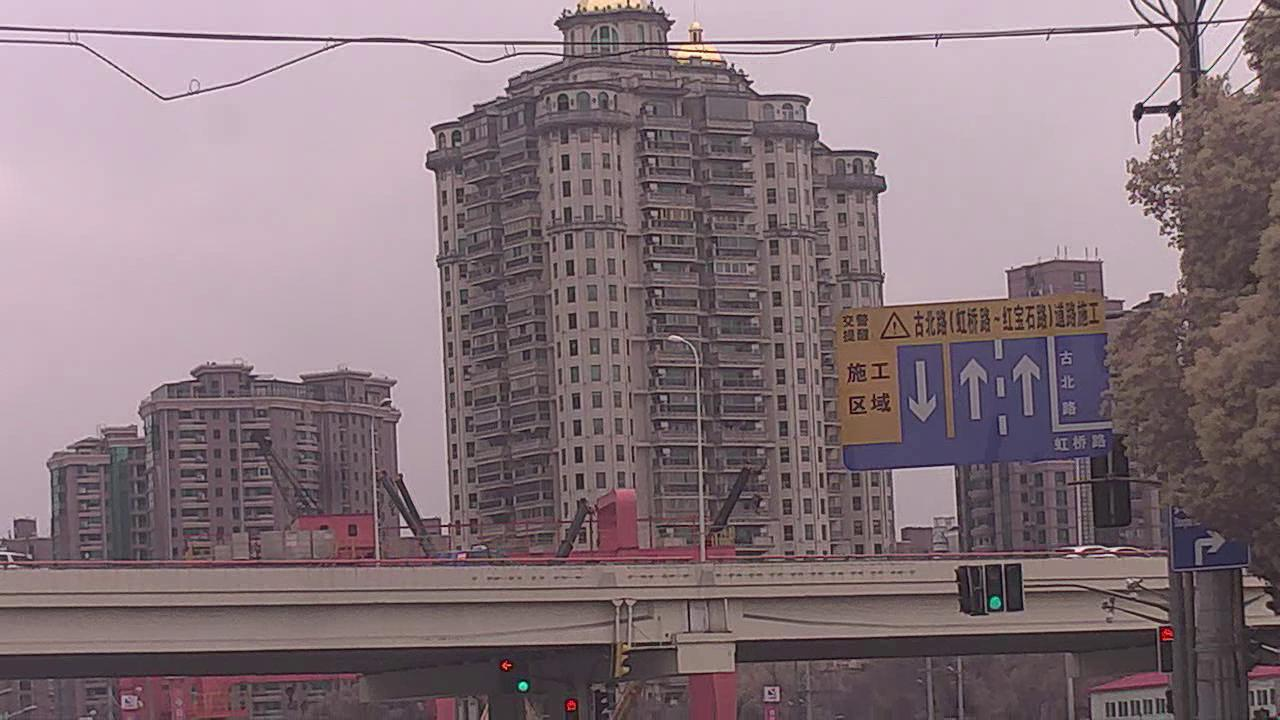traffic_light: (1004, 563, 1026, 611), (1159, 623, 1178, 676), (986, 564, 1004, 615), (500, 655, 514, 694), (516, 655, 530, 694)
